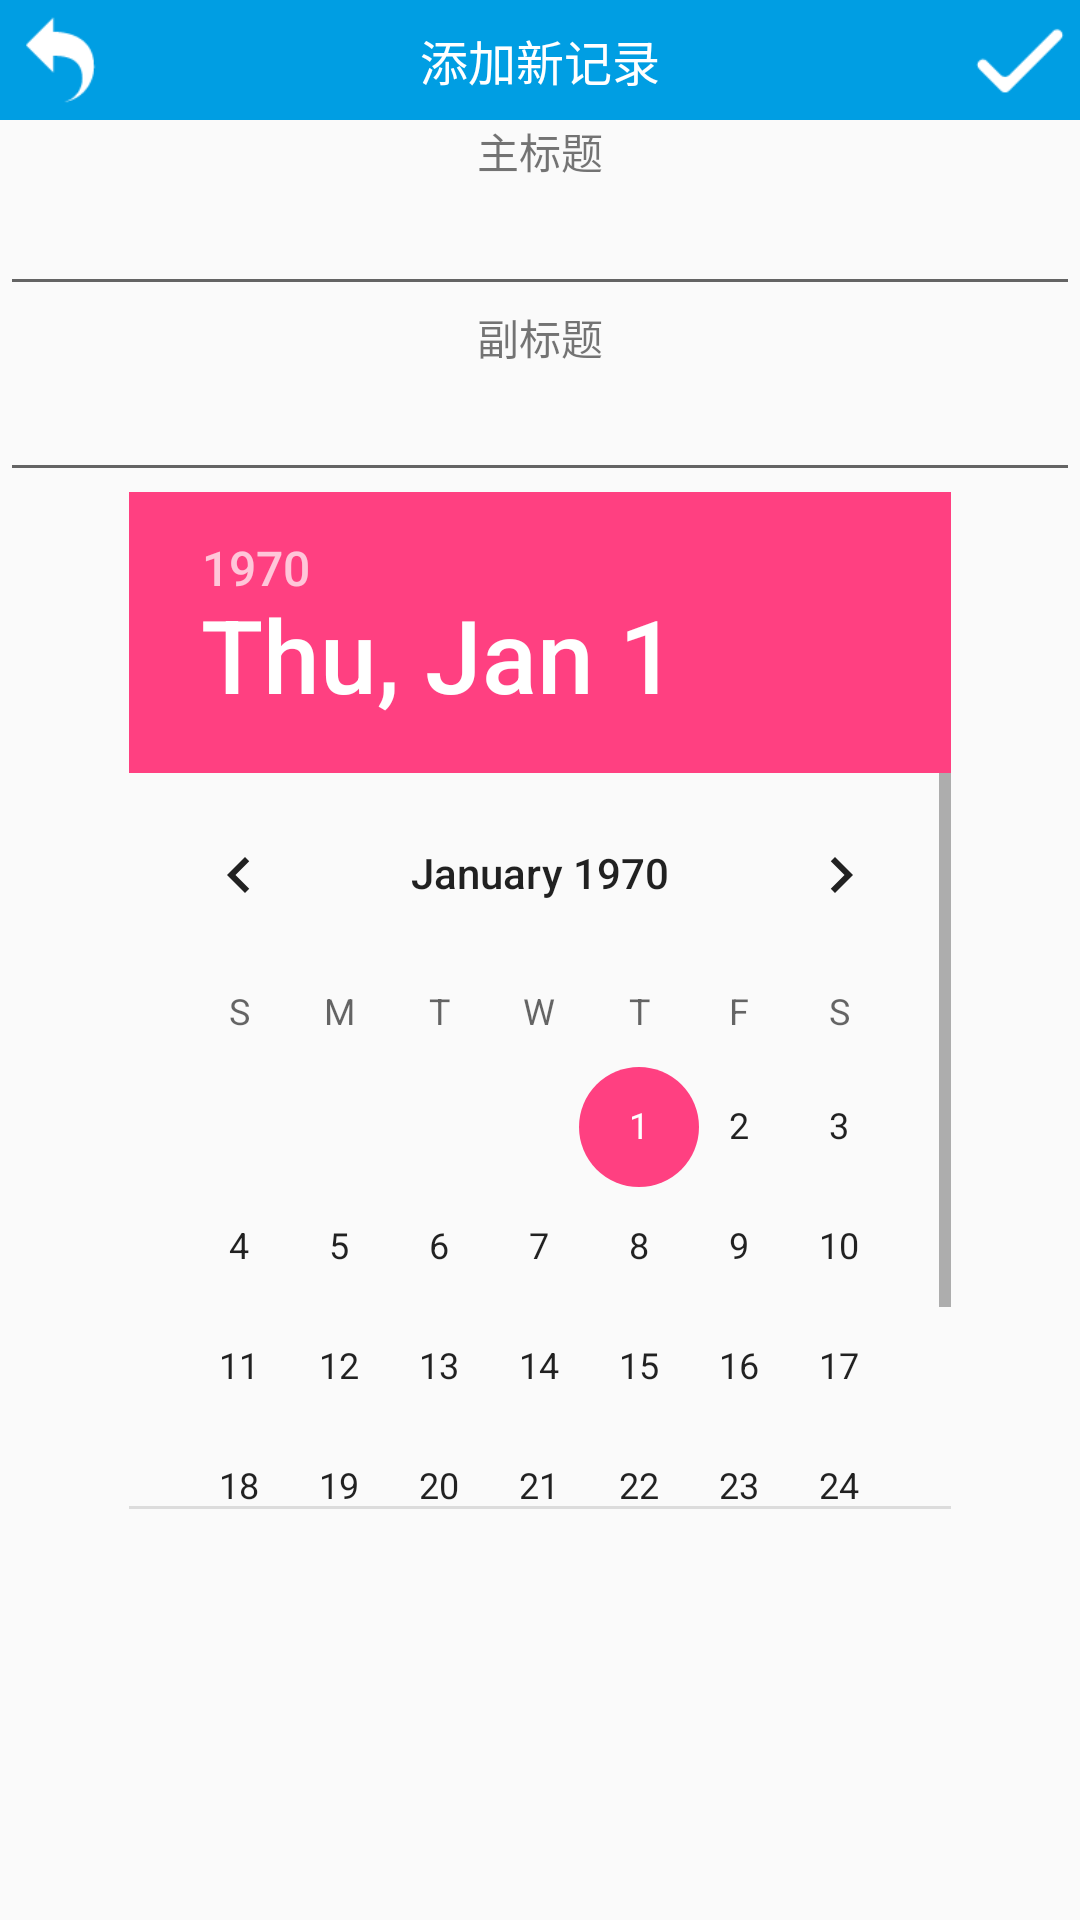

Named icons in this screenshot (1080×1920) and their bounding boxes, (x1, y1, x2, y2):
cancel: (26, 17, 95, 102)
confirm: (976, 29, 1064, 93)
